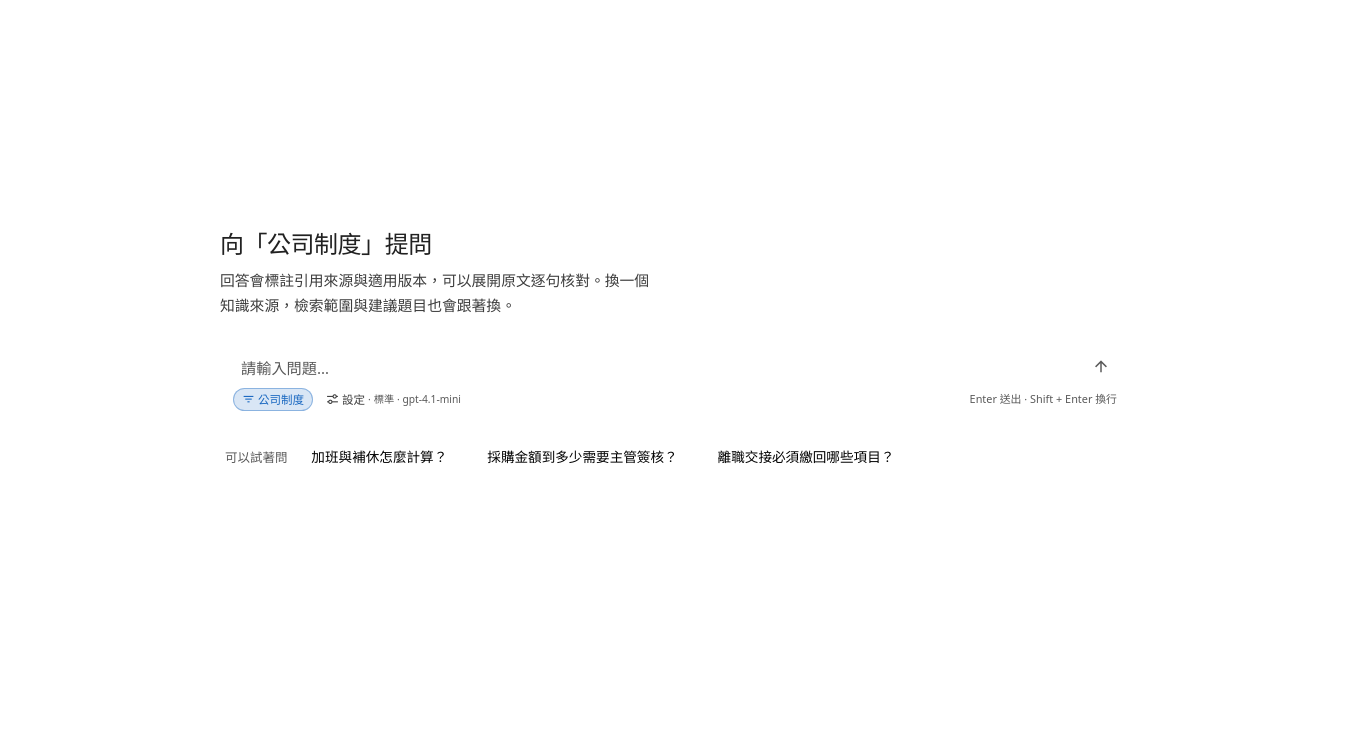
AskView knowledge source dialog › should create a notebook in place and select it as the knowledge source
Click the button with id "knowledge-source-trigger" at (273, 400), box [233,388,313,411]
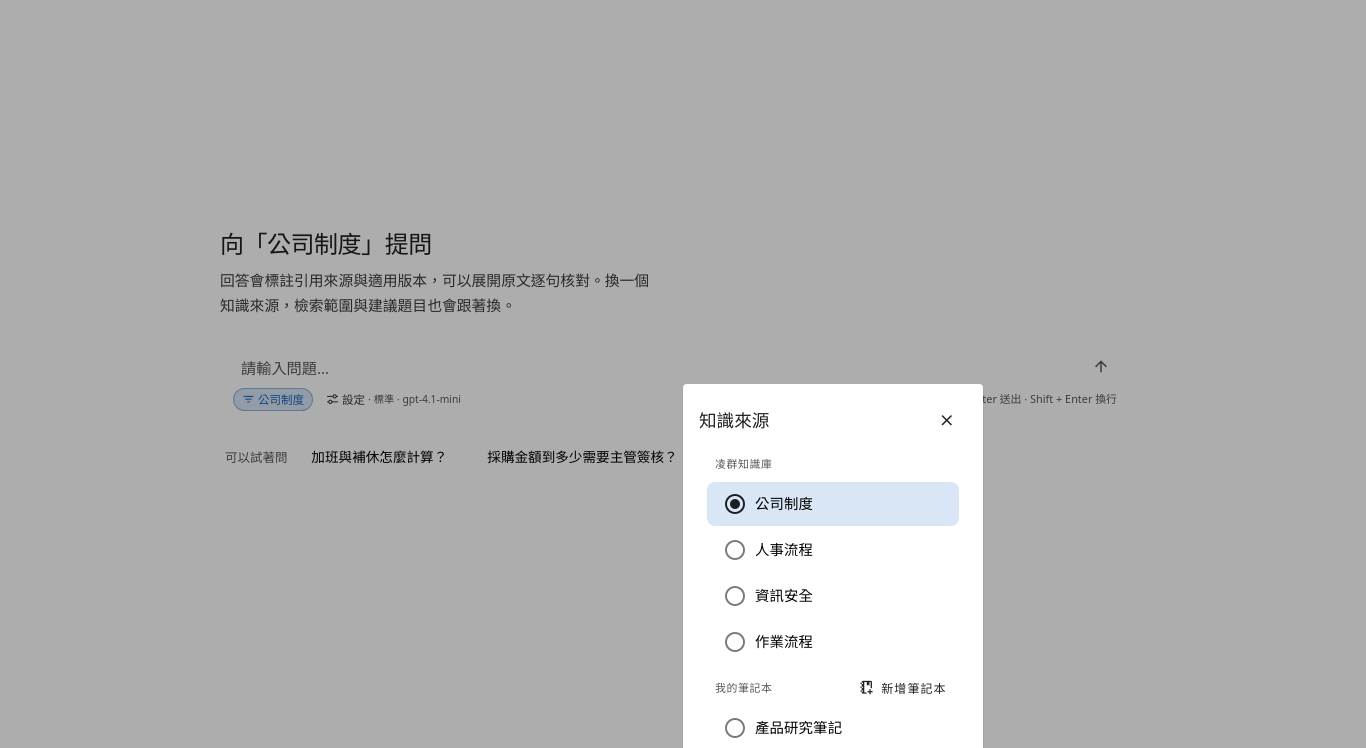
Click the button with test id "open-create-notebook-form" at (904, 688), box [850,678,959,698]
(page scrolled)
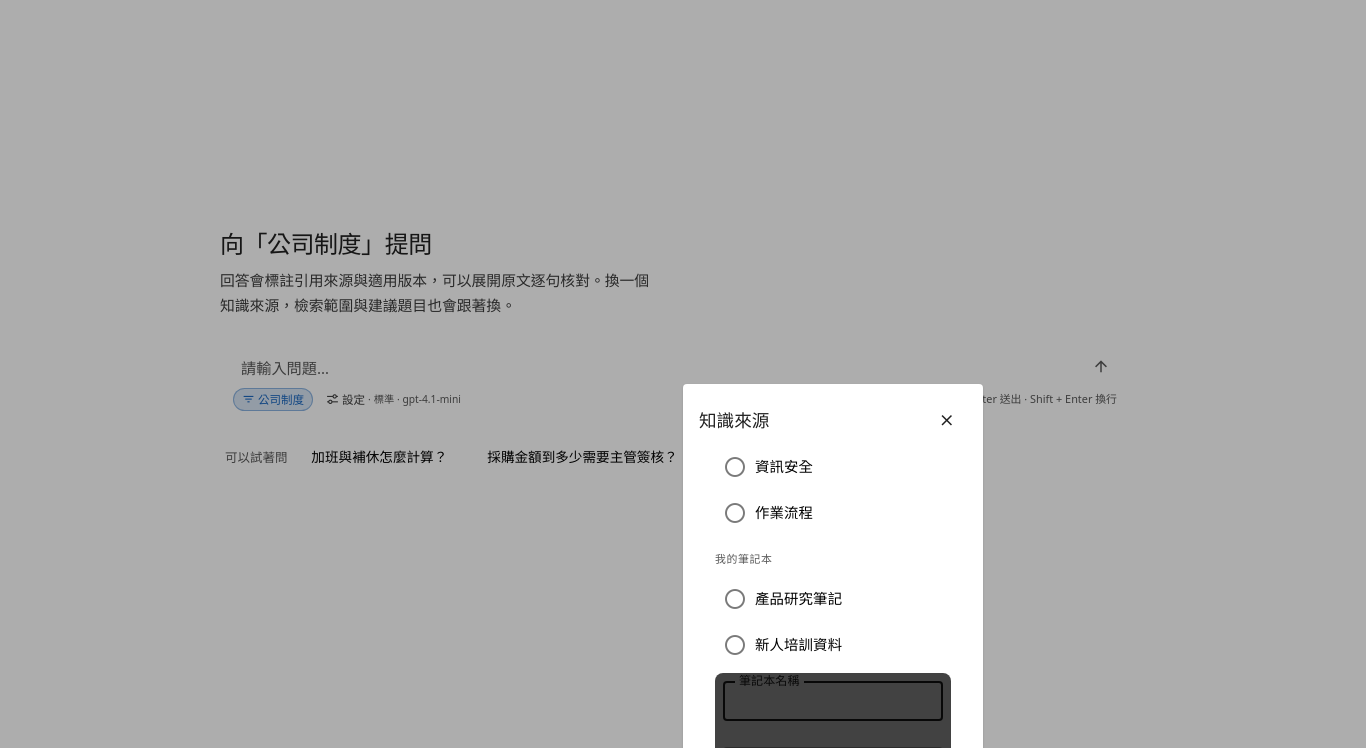
Type "競品調查" into the field labelled "筆記本名稱" at (833, 701), box [723,681,943,721]
(page scrolled)
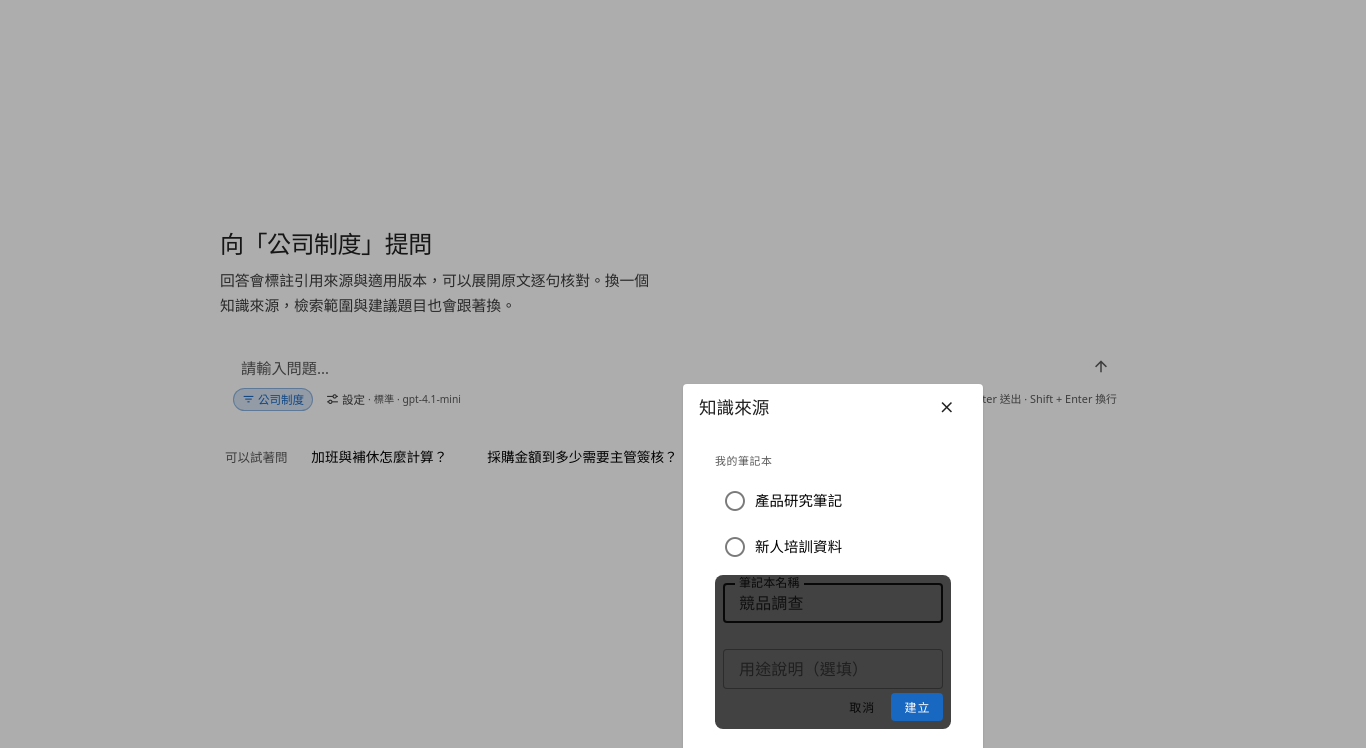
Click the button with test id "submit-create-notebook" at (917, 707), box [891,693,943,721]
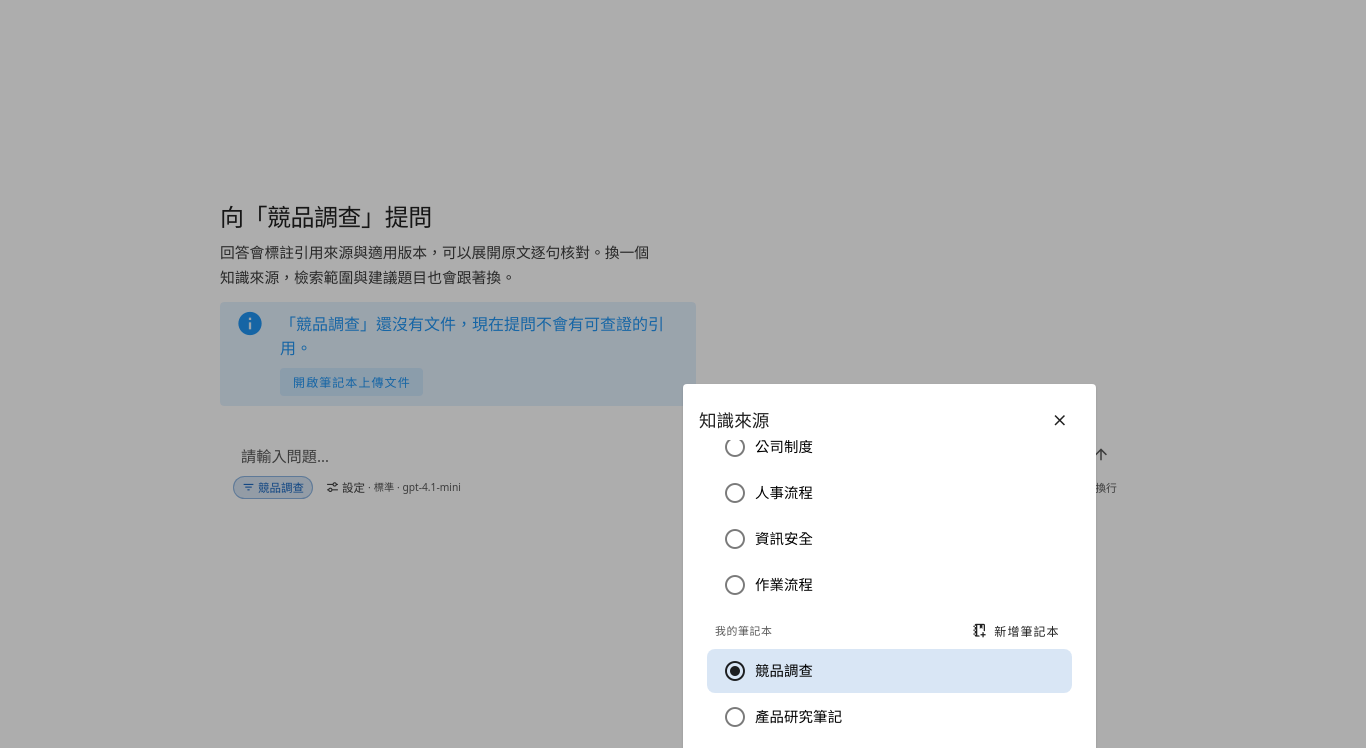
Check: the element with test id "new-notebook-name" is gone
